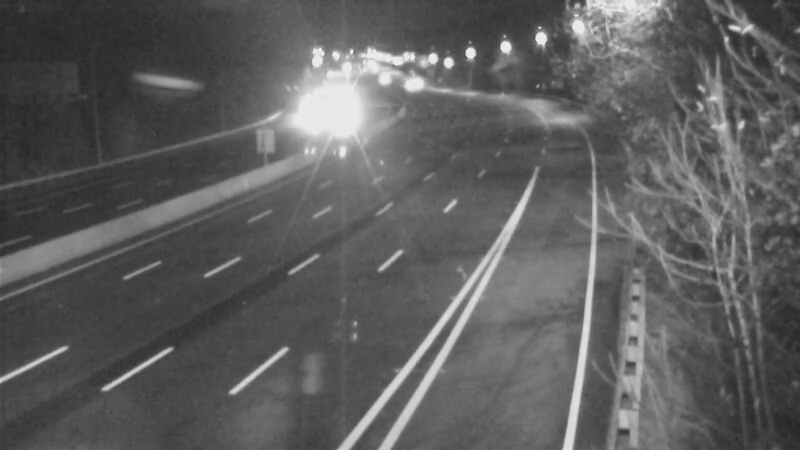vehicle: (357, 56, 407, 106), (383, 57, 433, 107), (314, 97, 364, 147), (276, 89, 326, 139)
